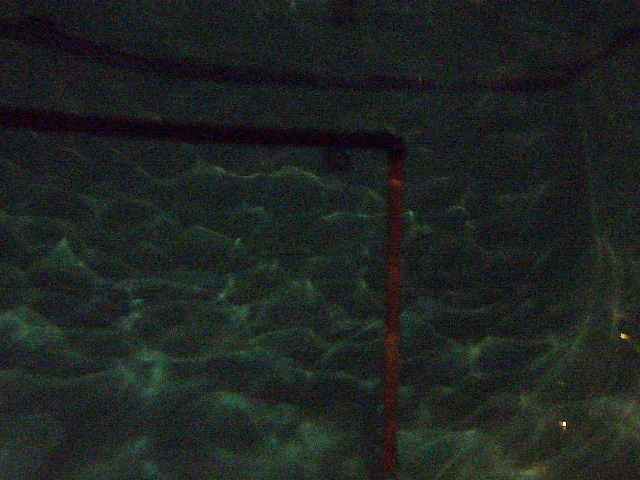Gate: (1, 101, 410, 479)
